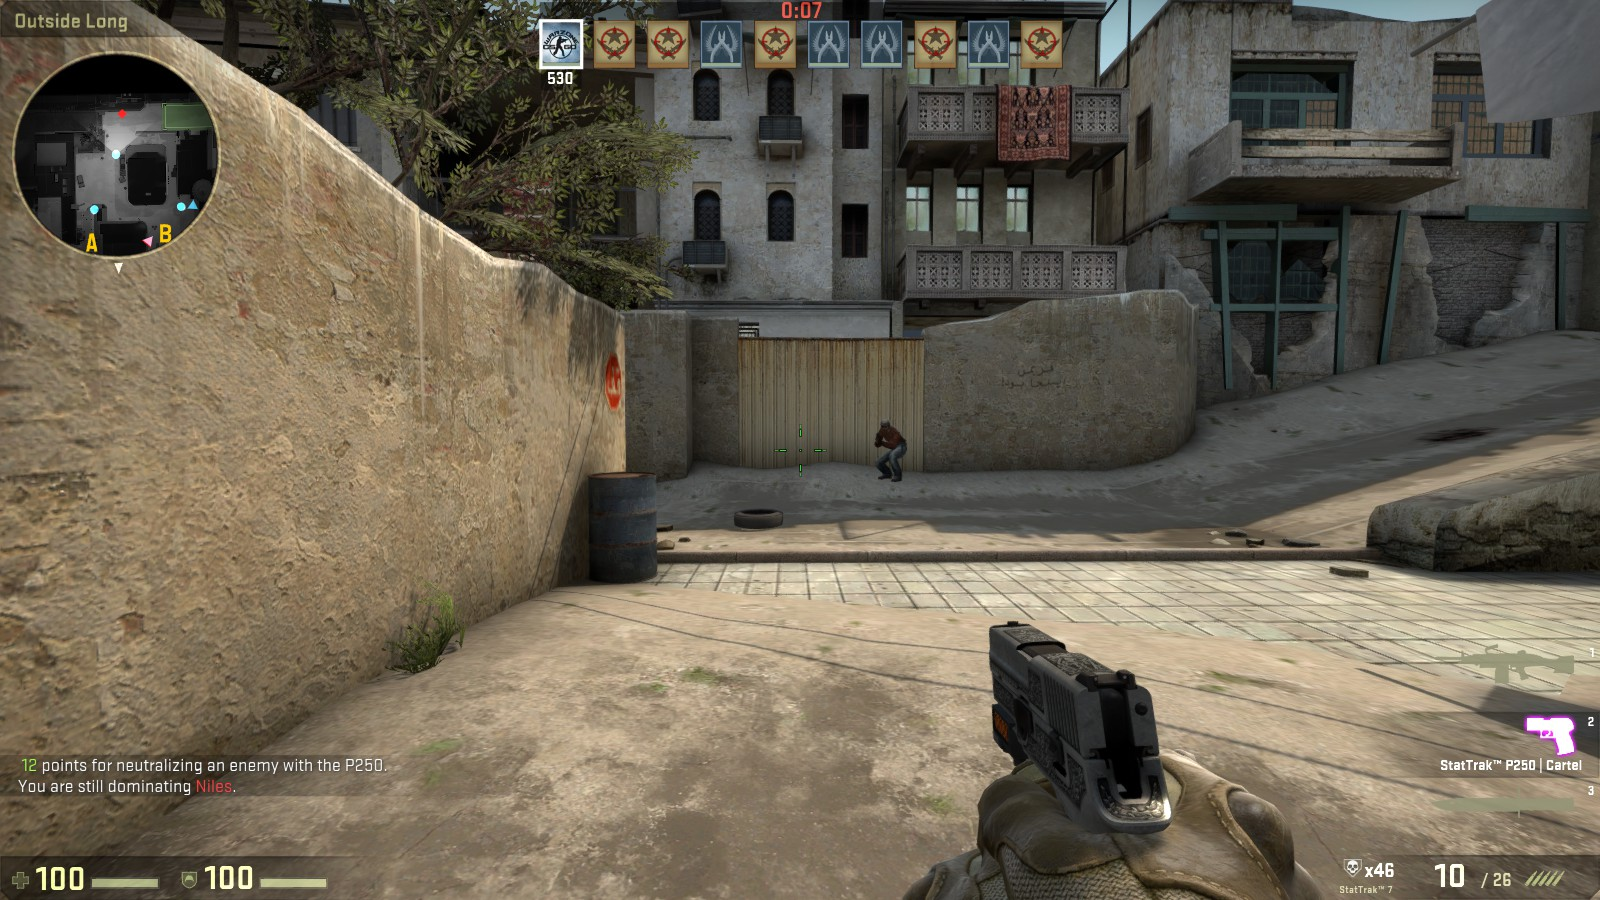t: (871, 416, 909, 484)
th: (875, 416, 892, 434)
